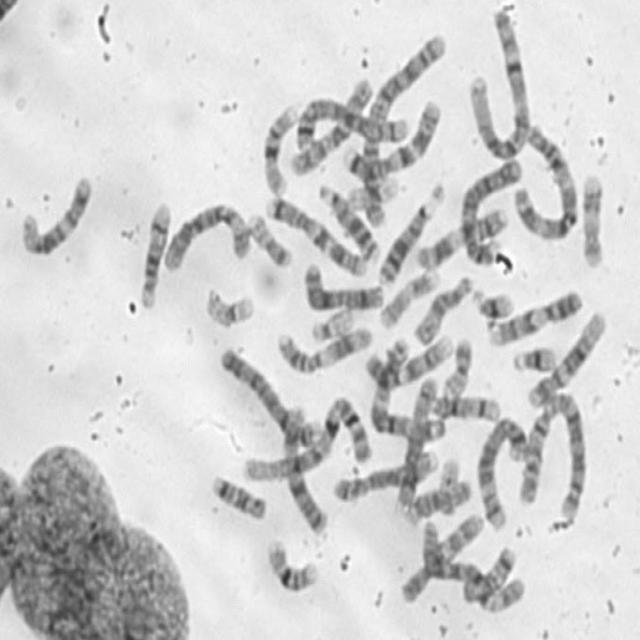A1: (238, 388, 372, 484), (464, 0, 533, 163)
A2: (351, 24, 450, 223), (516, 386, 592, 522)
A3: (365, 334, 449, 446), (509, 117, 579, 243)
B4: (216, 340, 325, 451), (457, 153, 525, 268)
B5: (291, 95, 414, 152), (474, 408, 530, 532)
C10: (287, 74, 375, 178), (396, 506, 484, 605)
C11: (412, 200, 510, 272), (272, 319, 375, 375)
C12: (523, 302, 609, 411), (15, 167, 95, 259)
C6: (418, 513, 526, 614), (159, 194, 256, 274)
C7: (261, 190, 370, 276), (342, 91, 444, 182)
C8: (393, 369, 442, 513), (328, 443, 440, 503)
C9: (484, 283, 585, 347), (360, 327, 457, 390)
D13: (376, 179, 447, 288), (314, 177, 382, 264)
D14: (135, 196, 173, 310), (427, 388, 503, 423)
D15: (409, 269, 476, 347), (400, 473, 474, 527)
E16: (258, 96, 302, 197), (262, 532, 321, 594)
E17: (375, 263, 442, 330), (578, 166, 608, 270)
E18: (459, 539, 518, 604), (207, 467, 269, 523)
F19: (200, 280, 258, 330), (344, 172, 402, 213)
F20: (242, 205, 294, 269), (439, 331, 475, 400)
G21: (509, 338, 560, 374), (469, 281, 516, 320)
G22: (306, 301, 356, 344), (434, 452, 461, 513)
X: (280, 399, 330, 536), (300, 256, 386, 312)
